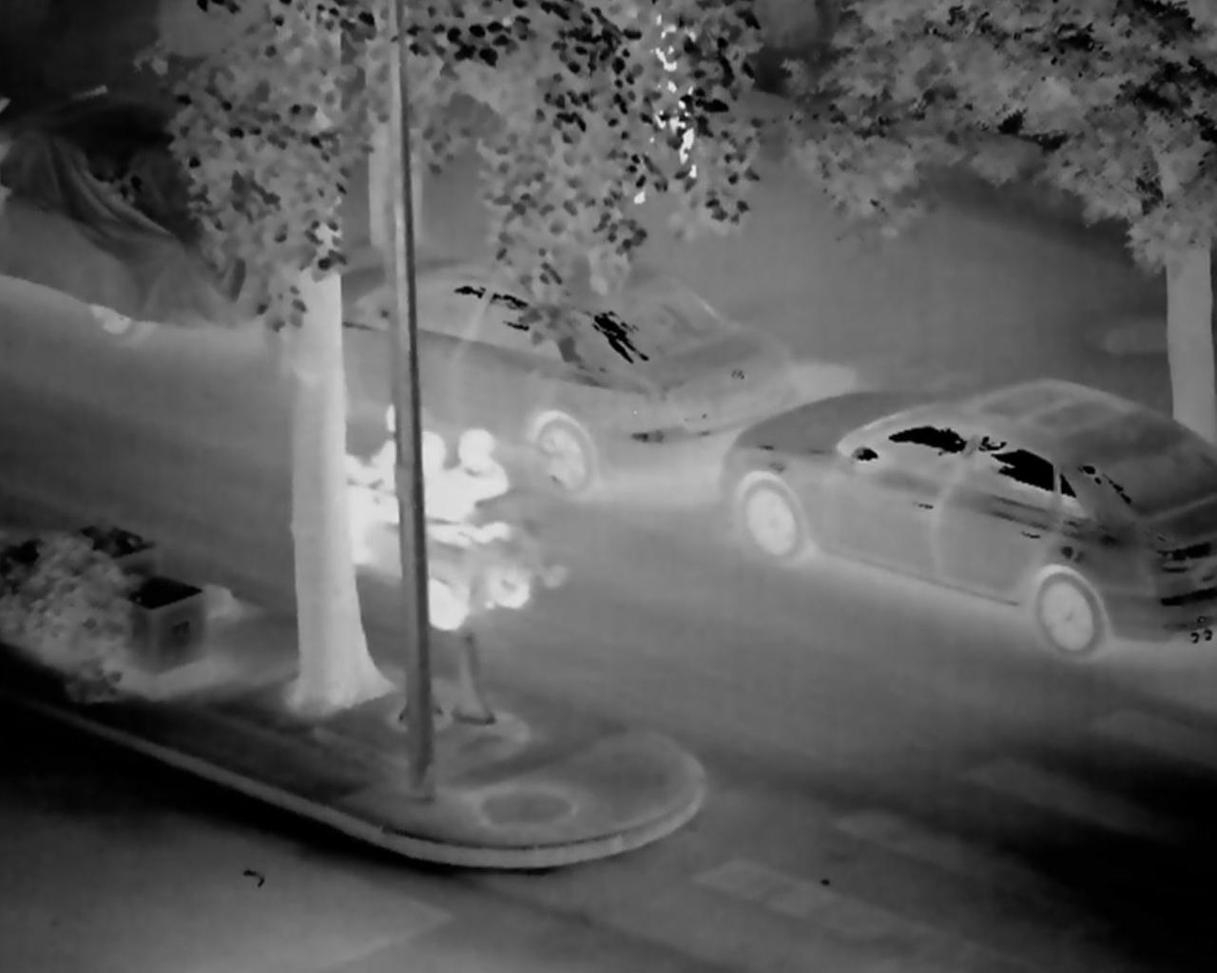person: (450, 429, 521, 619), (343, 400, 399, 559), (396, 434, 452, 575)
